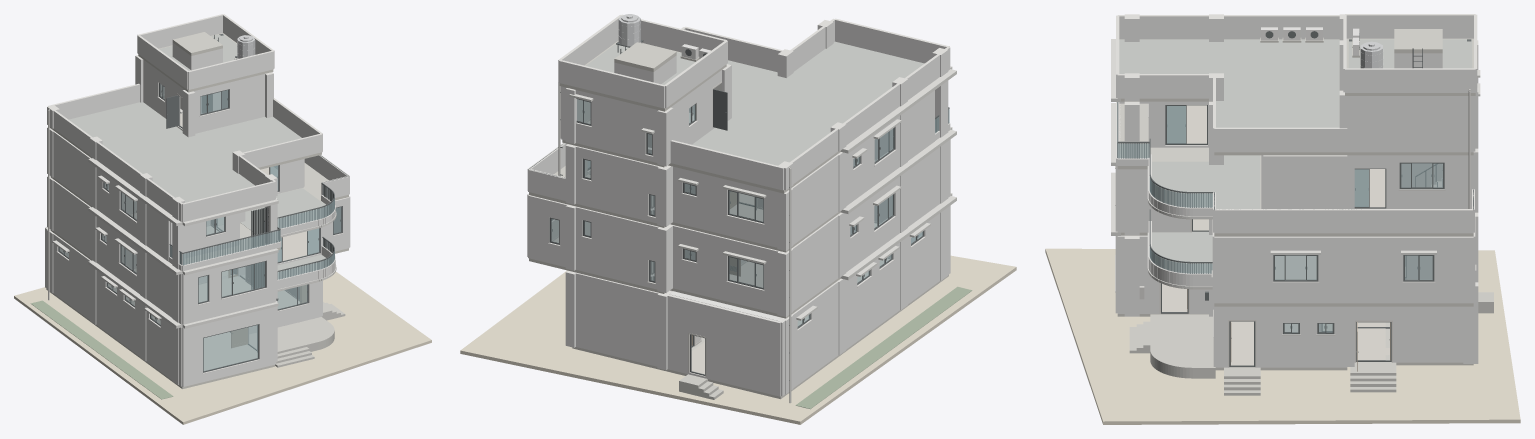
File: architecture-baseline.glb
The picture shows the model from 3 angles, left to right: view 1: azimuth 30°, elevation 25°; view 2: azimuth 150°, elevation 25°; view 3: azimuth 270°, elevation 25°; orthographic projection. The views are drawn at different scales.
Visible parts, largest first — view 1: SITE_site_ground, FLOOR_4_floor_finish_terrace, FLOOR_1_wall_facade, FLOOR_2_wall_facade, FLOOR_4_parapet_facade, FLOOR_3_wall_facade, ROOF_parapet_facade, FLOOR_4_wall_facade, FLOOR_1_window_glass, SITE_site_porch, FLOOR_4_column_facade, FLOOR_3_railing_metal (+34 smaller); view 2: FLOOR_1_wall_facade, FLOOR_2_wall_facade, SITE_site_ground, FLOOR_3_wall_facade, FLOOR_4_floor_finish_terrace, FLOOR_4_parapet_facade, ROOF_parapet_facade, FLOOR_4_wall_facade, FLOOR_2_column_facade, FLOOR_1_column_facade, FLOOR_3_column_facade, FLOOR_4_column_facade (+28 smaller); view 3: SITE_site_ground, FLOOR_2_wall_facade, FLOOR_4_floor_finish_terrace, FLOOR_1_wall_facade, FLOOR_3_wall_facade, FLOOR_4_parapet_facade, SITE_site_porch, FLOOR_4_wall_facade, FLOOR_3_parapet_facade, ROOF_parapet_facade, FLOOR_3_floor_finish_terrace, FLOOR_3_slab_slab (+35 smaller).
Boxes of the visible parts, x1,y1,x2,y2 form: SITE_site_ground: [14, 272, 431, 424]; FLOOR_4_floor_finish_terrace: [69, 102, 301, 202]; FLOOR_1_wall_facade: [45, 228, 322, 386]; FLOOR_2_wall_facade: [53, 181, 350, 324]; FLOOR_4_parapet_facade: [53, 84, 322, 222]; FLOOR_3_wall_facade: [53, 132, 304, 261]; ROOF_parapet_facade: [137, 15, 274, 89]; FLOOR_4_wall_facade: [143, 60, 272, 133]; FLOOR_1_window_glass: [59, 248, 307, 370]; SITE_site_porch: [249, 302, 345, 367]; FLOOR_4_column_facade: [47, 56, 277, 220]; FLOOR_3_railing_metal: [169, 155, 348, 265]; FLOOR_1_wall_facade: [576, 205, 950, 396]; FLOOR_2_wall_facade: [527, 139, 950, 313]; SITE_site_ground: [460, 255, 1016, 424]; FLOOR_3_wall_facade: [576, 90, 934, 247]; FLOOR_4_floor_finish_terrace: [692, 41, 924, 165]; FLOOR_4_parapet_facade: [561, 20, 950, 190]; ROOF_parapet_facade: [558, 18, 727, 108]; FLOOR_4_wall_facade: [560, 70, 721, 162]; FLOOR_2_column_facade: [565, 141, 948, 316]; FLOOR_1_column_facade: [565, 207, 948, 394]; FLOOR_3_column_facade: [565, 81, 948, 250]; FLOOR_4_column_facade: [565, 22, 948, 190]; SITE_site_ground: [1045, 248, 1520, 424]; FLOOR_2_wall_facade: [1115, 166, 1475, 303]; FLOOR_4_floor_finish_terrace: [1119, 39, 1339, 127]; FLOOR_1_wall_facade: [1115, 236, 1463, 367]; FLOOR_3_wall_facade: [1148, 101, 1463, 208]; FLOOR_4_parapet_facade: [1116, 16, 1347, 152]; SITE_site_porch: [1129, 292, 1493, 395]; FLOOR_4_wall_facade: [1345, 96, 1475, 152]; FLOOR_3_parapet_facade: [1116, 101, 1474, 233]; ROOF_parapet_facade: [1343, 15, 1477, 92]; FLOOR_3_floor_finish_terrace: [1152, 155, 1260, 208]; FLOOR_3_slab_slab: [1117, 103, 1473, 236].
Size of the model in its own units: 19.1 by 16.92 by 22.2.
